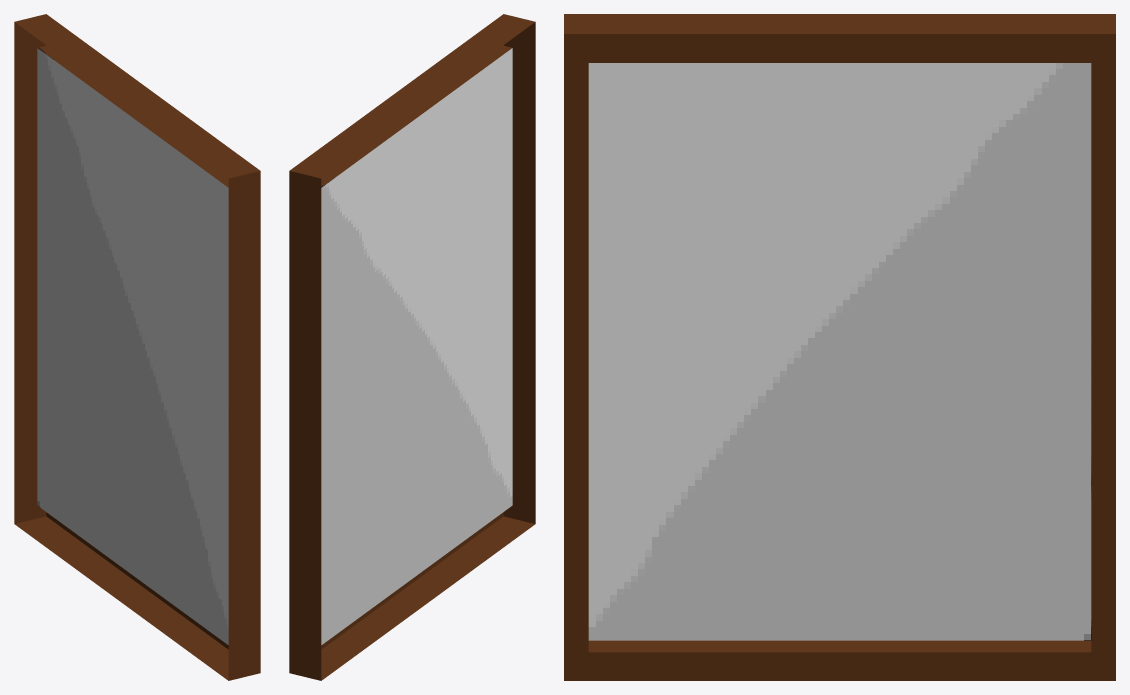
The model's file is picture.glb.
3 views of the same model, side by side, from view 1: azimuth 30°, elevation 25°; view 2: azimuth 150°, elevation 25°; view 3: azimuth 270°, elevation 25° (orthographic). The views are drawn at different scales.
Parts seen in each view (by area): view 1: Cube; view 2: Cube; view 3: Cube.
Part boxes in pixels (x1,y1,x2,y2): Cube: (14, 14, 260, 680); Cube: (289, 14, 535, 680); Cube: (564, 14, 1115, 680).
Bounding box in the file's own units: 0.2135 × 3.21 × 2.48.
1 material, 1 textured.
